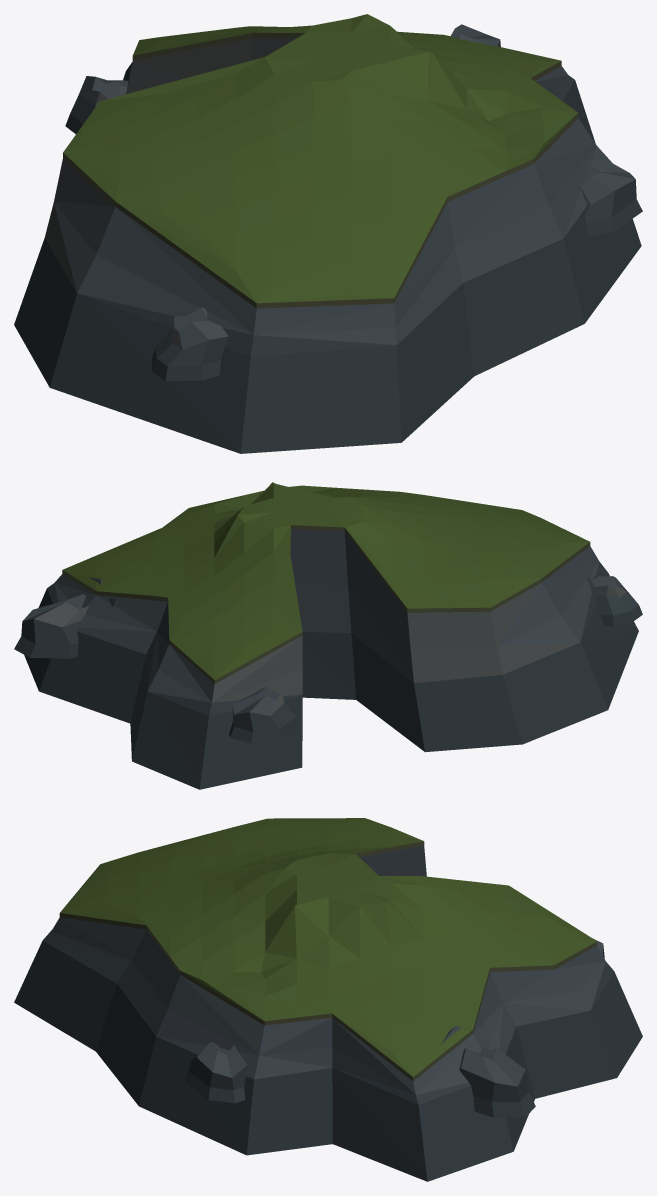
The model's file is island_c.glb.
3 renders of one model, top to bottom at view 1: azimuth 30°, elevation 25°; view 2: azimuth 150°, elevation 25°; view 3: azimuth 270°, elevation 25°, orthographic. The views are drawn at different scales.
Visible parts, largest first — view 1: island_c_Coast blue grey bedrock, island_c_Coast short olive grass; view 2: island_c_Coast blue grey bedrock, island_c_Coast short olive grass; view 3: island_c_Coast blue grey bedrock, island_c_Coast short olive grass.
Boxes of the visible parts, left/top/right/bottom form: island_c_Coast blue grey bedrock: left=14, top=24, right=642, bottom=453; island_c_Coast short olive grass: left=63, top=14, right=578, bottom=308; island_c_Coast blue grey bedrock: left=14, top=529, right=642, bottom=789; island_c_Coast short olive grass: left=62, top=482, right=590, bottom=683; island_c_Coast blue grey bedrock: left=14, top=845, right=642, bottom=1181; island_c_Coast short olive grass: left=59, top=818, right=597, bottom=1081.
Size of the model in its own units: 85.62 by 26.99 by 86.72.
